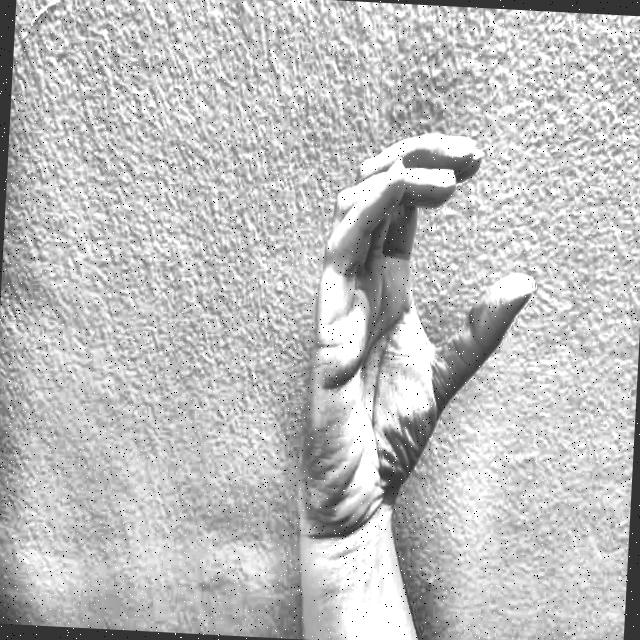A: (276, 105, 566, 558)
